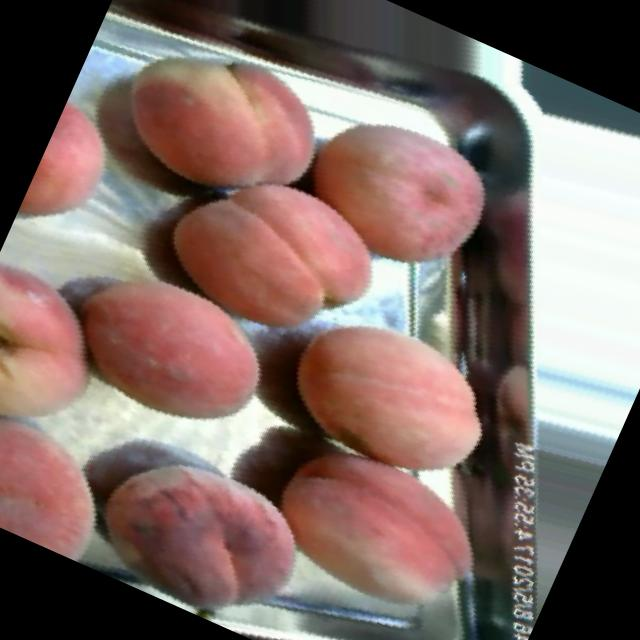Fruit: (136, 126, 420, 377), (254, 260, 542, 503), (61, 402, 344, 640), (82, 1, 356, 246), (266, 65, 534, 314), (224, 414, 515, 640), (32, 240, 300, 476), (0, 361, 165, 577), (0, 236, 149, 474), (9, 83, 142, 261)
